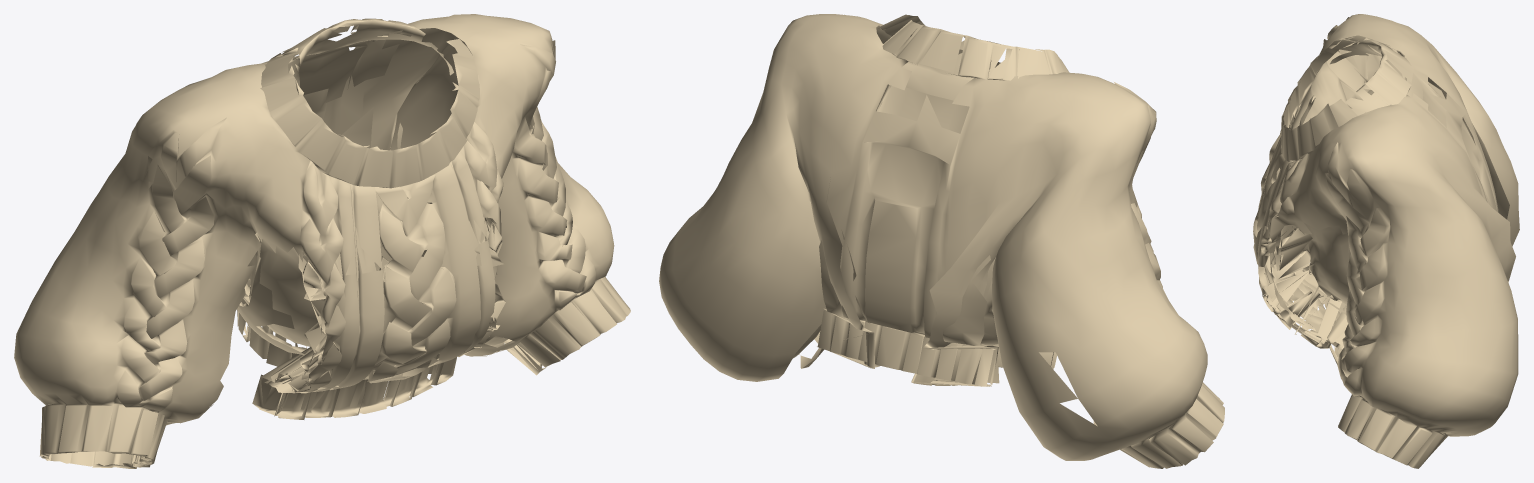
File: top_f_m2sweater_tucked.glb
3 renders of one model, left to right at view 1: azimuth 30°, elevation 25°; view 2: azimuth 150°, elevation 25°; view 3: azimuth 270°, elevation 25°, orthographic. The views are drawn at different scales.
Parts seen in each view (by area): view 1: top_f_m2sweater_tucked; view 2: top_f_m2sweater_tucked; view 3: top_f_m2sweater_tucked.
Boxes of the visible parts, left/top/right/bottom form: top_f_m2sweater_tucked: left=14, top=14, right=630, bottom=468; top_f_m2sweater_tucked: left=659, top=14, right=1224, bottom=468; top_f_m2sweater_tucked: left=1253, top=14, right=1519, bottom=468.
Bounding box in the file's own units: 0.9114 × 0.6086 × 0.4493.
Materials: 1 (1 with a texture image).
